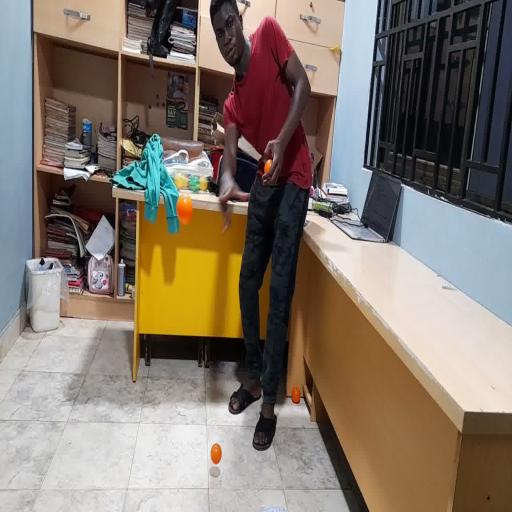plastic-ball: (170, 188, 198, 234)
